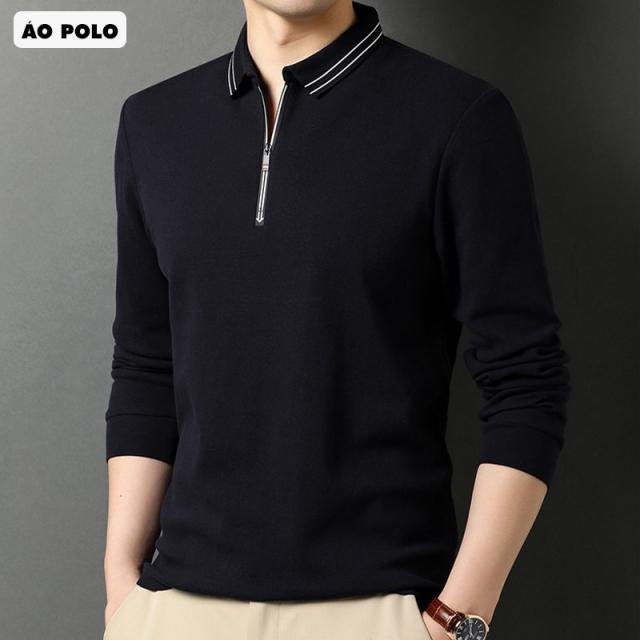Shirt: (99, 15, 567, 609)
